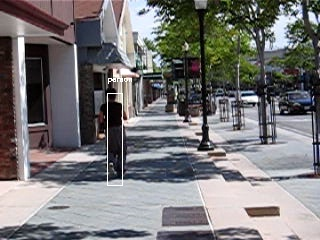person: (99, 88, 130, 182), (98, 88, 129, 182), (100, 88, 131, 182), (99, 87, 130, 181), (99, 89, 130, 183)
target_negative: (239, 125, 276, 180), (97, 98, 219, 111), (3, 75, 18, 165), (275, 179, 300, 206), (277, 232, 319, 239), (303, 125, 305, 130)
